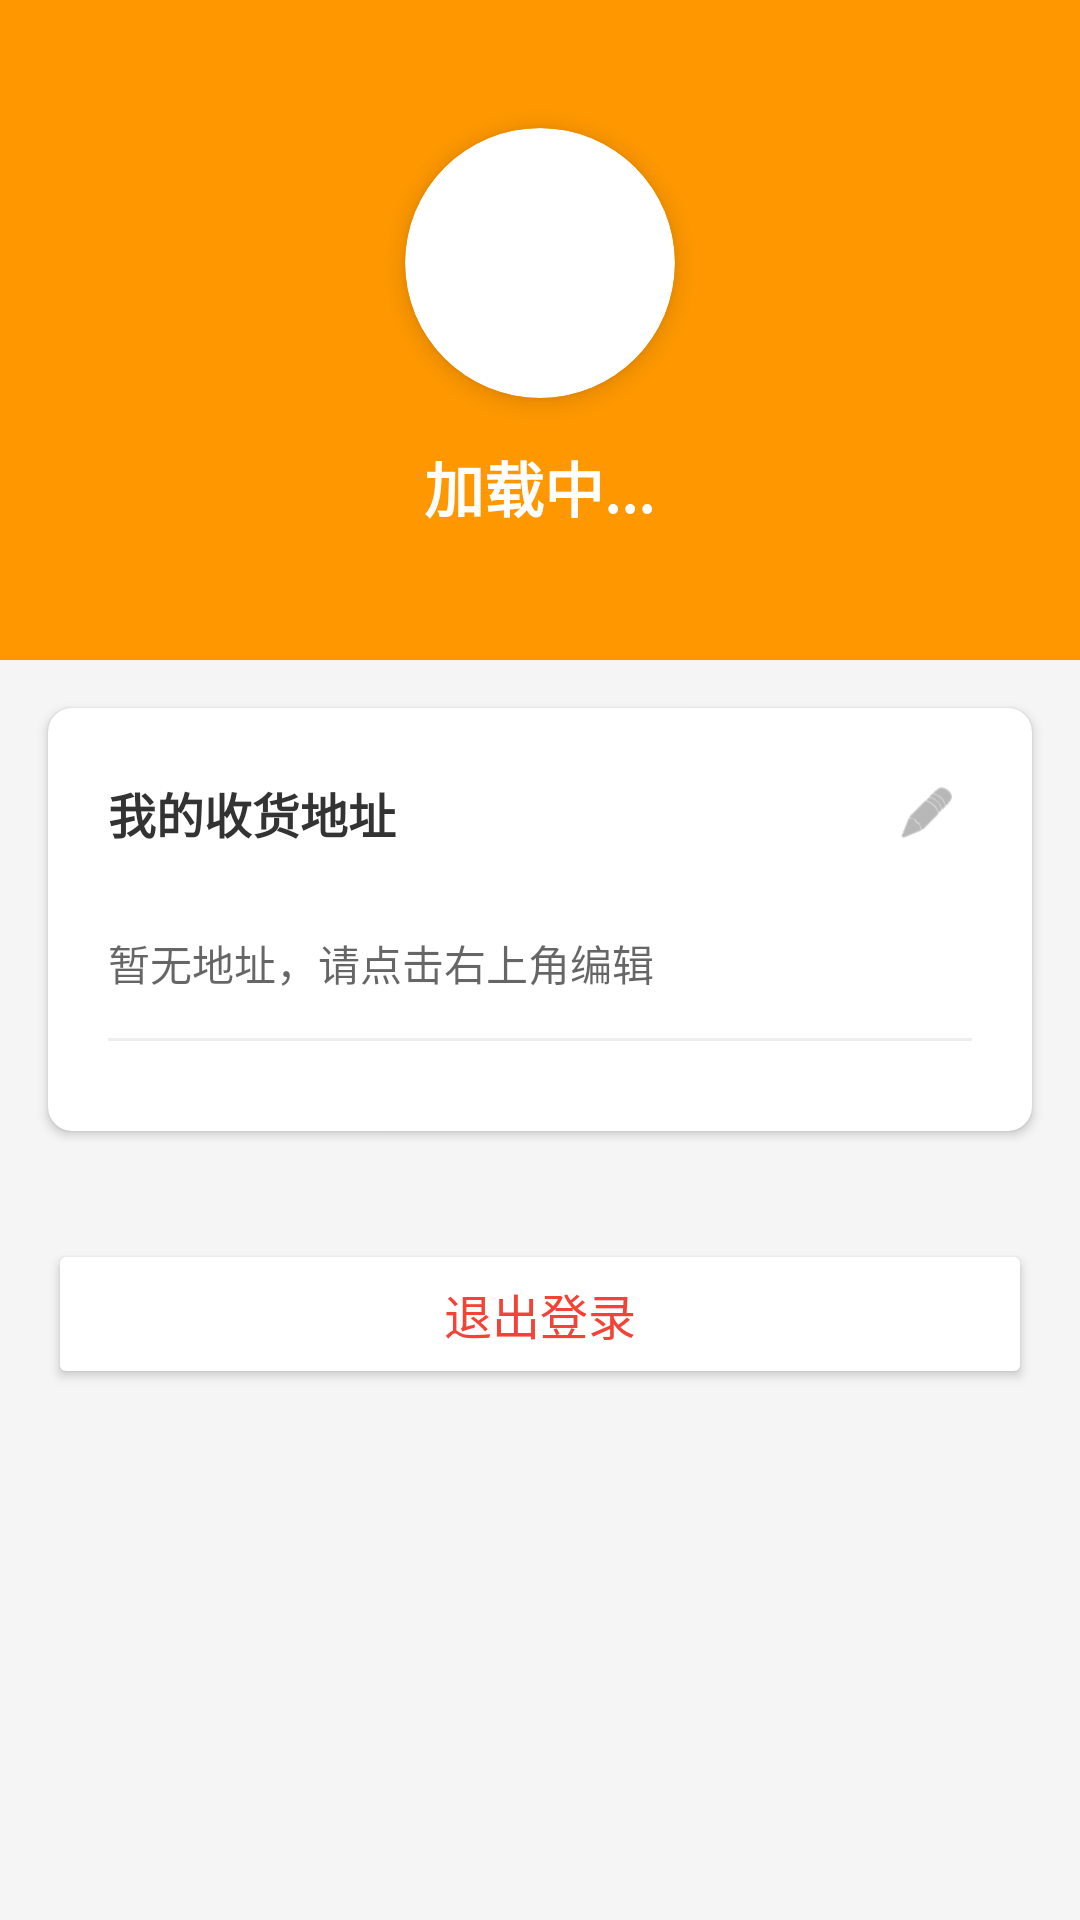

Icons on this 1080*1920 Android screen, each with its box as (x1, y1, x2, y2):
edit: (902, 787, 952, 838)
